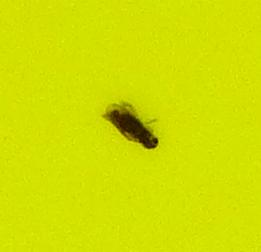Hemiptera: (100, 100, 161, 152)
